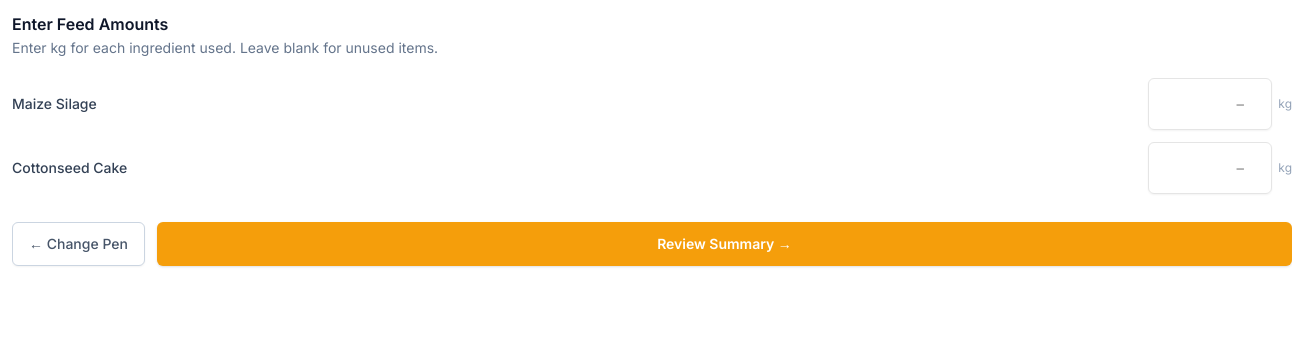
Test: IngredientForm › field validation › shows DAT-002 global error when all fields are blank on submit
The width and height of the screenshot is (1304, 350).
Note: Don't fill any fields
Click the button "Review Summary →" at (724, 244), box left=157, top=222, right=1292, bottom=266
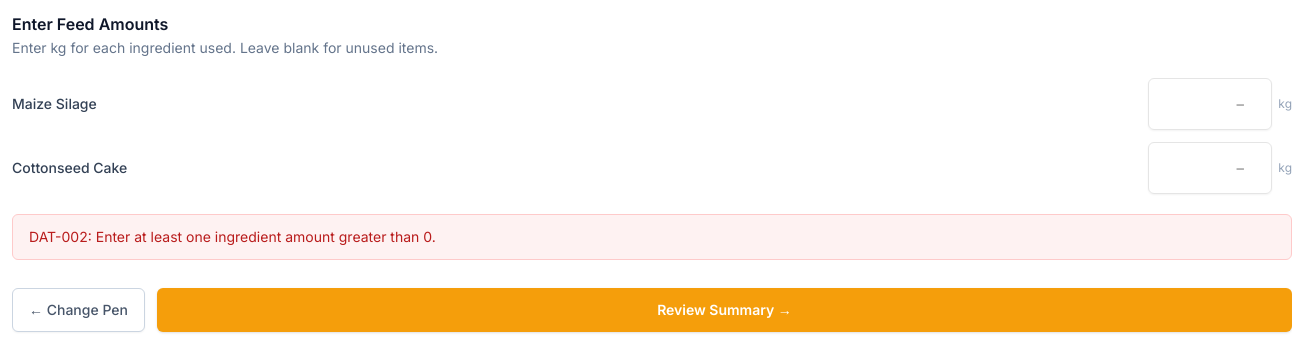
Result: the text "DAT-002" is shown at left=29, top=228, right=436, bottom=245
